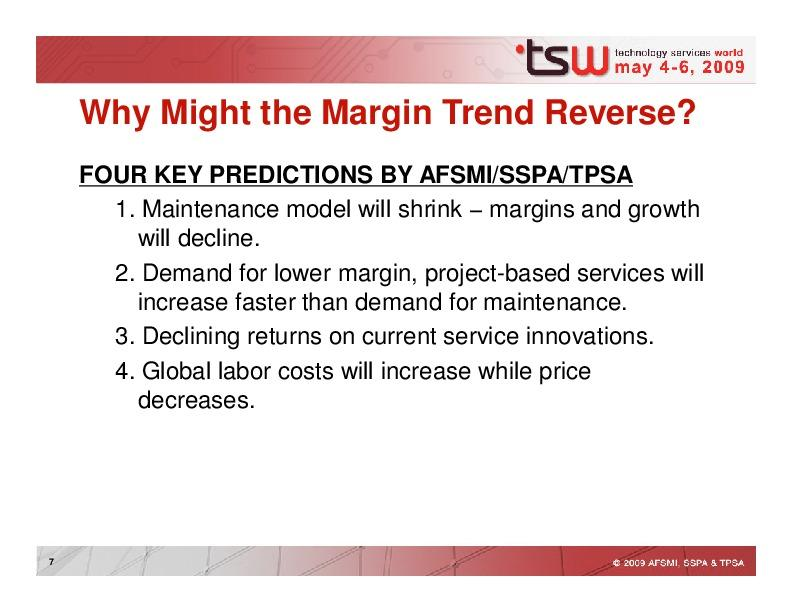paragraph: (71, 155, 735, 446)
title: (69, 84, 706, 147)
